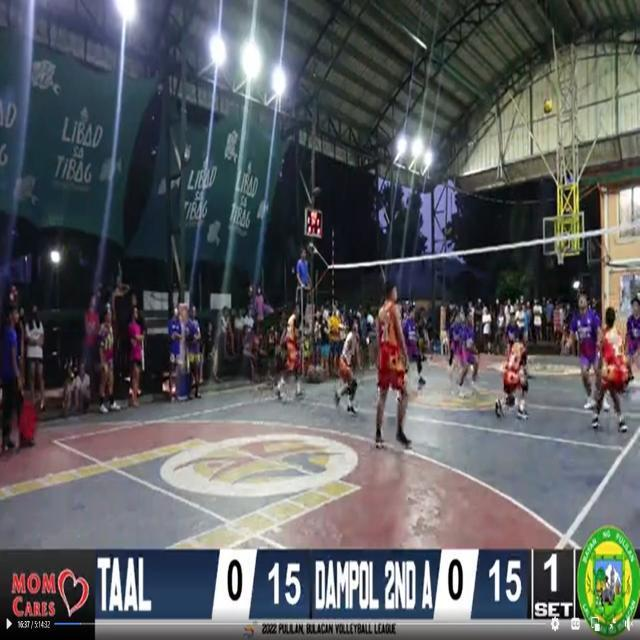volleyball: (544, 97, 552, 113)
